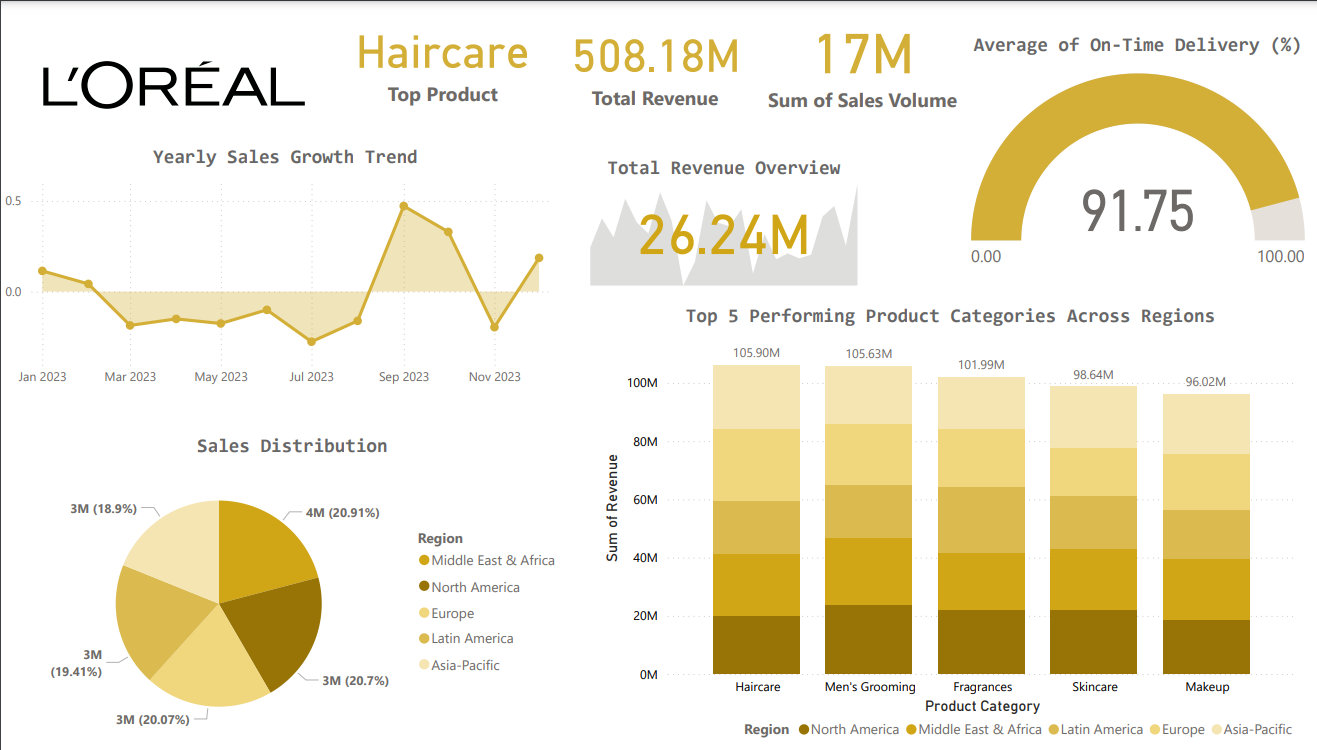

The page's visual inventory and layout, read from the dashboard file:
{"tool":"powerbi","page":{"name":"Page 2","canvas":[1280,720],"ordinal":0},"visuals":[{"type":"lineChart","title":"Yearly Sales Growth Trend","fields":{"Y":["Loreal_Sales_SupplyChain_Cleaned.Sales Growth %"],"Category":["Loreal_Sales_SupplyChain_Cleaned.Full Date"]},"box":[0,135.6,553.3,241.1],"z":0},{"type":"image","box":[0,0,337.2,154.3],"z":1000},{"type":"card","fields":{"Values":["Loreal_Sales_SupplyChain_Cleaned.Top Product"]},"box":[312.2,0,234.4,104.4],"z":2000},{"type":"card","fields":{"Values":["Loreal_Sales_SupplyChain_Cleaned.Total Revenue"]},"box":[511.1,0,247.8,112.2],"z":3000},{"type":"card","fields":{"Values":["Sum(Loreal_Sales_SupplyChain_Cleaned.Sales Volume)"]},"box":[726.7,0,217.8,104.4],"z":4000},{"type":"gauge","fields":{"Y":["Avg(Loreal_Sales_SupplyChain_Cleaned.On-Time Delivery (%))"]},"box":[935.6,26.7,333.3,248.9],"z":5000},{"type":"columnChart","title":"Top 5 Performing Product Categories Across Regions","fields":{"Category":["Loreal_Sales_SupplyChain_Cleaned.Product Category"],"Y":["Sum(Loreal_Sales_SupplyChain_Cleaned.Revenue)"],"Series":["Loreal_Sales_SupplyChain_Cleaned.Region"]},"box":[580,290,682.2,430],"z":6000},{"type":"pieChart","title":"Sales Distribution","fields":{"Category":["Loreal_Sales_SupplyChain_Cleaned.Region"],"Y":["Sum(Loreal_Sales_SupplyChain_Cleaned.Sales Volume)"]},"box":[14.4,415.6,538.9,304.4],"z":7000},{"type":"kpi","title":"Total Revenue Overview","fields":{"Indicator":["Loreal_Sales_SupplyChain_Cleaned.Total Revenue"],"TrendLine":["Loreal_Sales_SupplyChain_Cleaned.Full Date"]},"box":[566.7,145.6,268.9,130],"z":8000}]}

Visuals, with their boxes in screenshot pixels (x1, y1, x2, y2), scaled from the page's 1280x720 canvas onto the 1317x750 screenshot:
"Yearly Sales Growth Trend" lineChart: [0, 141, 569, 392]
image: [0, 0, 347, 161]
card - Loreal_Sales_SupplyChain_Cleaned.Top Product: [321, 0, 562, 109]
card - Loreal_Sales_SupplyChain_Cleaned.Total Revenue: [526, 0, 781, 117]
card - Sum(Loreal_Sales_SupplyChain_Cleaned.Sales Volume): [748, 0, 972, 109]
gauge - Avg(Loreal_Sales_SupplyChain_Cleaned.On-Time Delivery (%)): [963, 28, 1306, 287]
"Top 5 Performing Product Categories Across Regions" columnChart: [597, 302, 1299, 749]
"Sales Distribution" pieChart: [15, 433, 569, 749]
"Total Revenue Overview" kpi: [583, 152, 860, 287]
